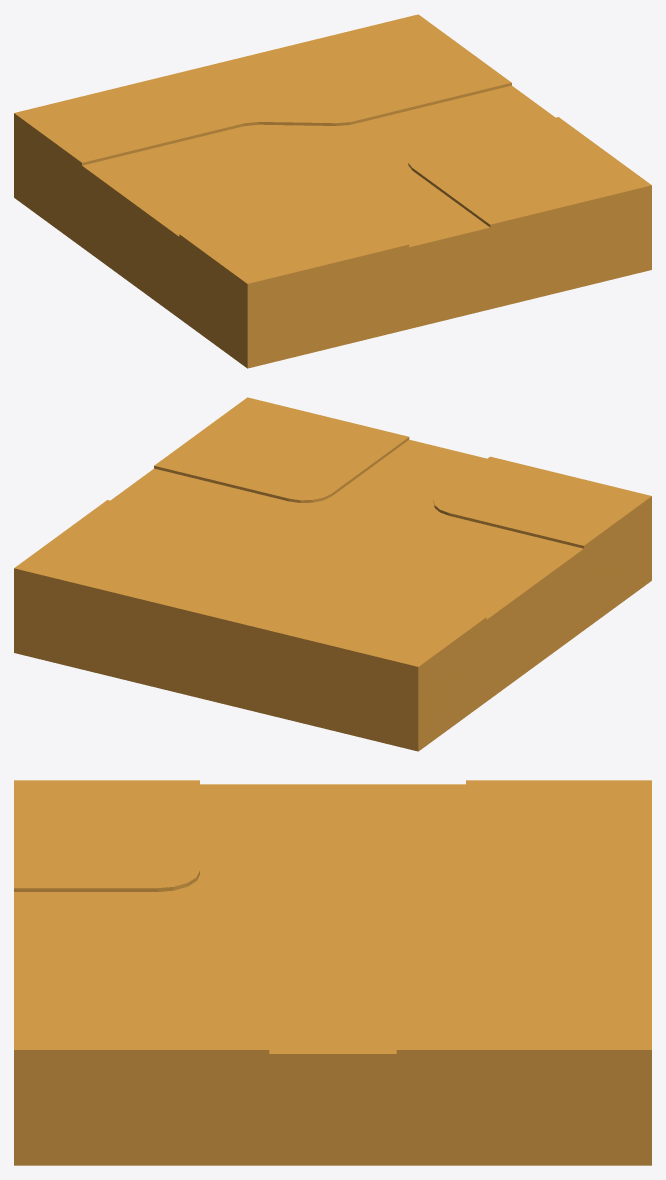
Rendered from tile-road-to-mainroad-intersection-t.glb.
3 renders of one model, top to bottom at view 1: azimuth 30°, elevation 25°; view 2: azimuth 150°, elevation 25°; view 3: azimuth 270°, elevation 25°, orthographic. The views are drawn at different scales.
Visible parts, largest first — view 1: tile-road-to-mainroad-intersection-t; view 2: tile-road-to-mainroad-intersection-t; view 3: tile-road-to-mainroad-intersection-t.
Boxes of the visible parts, box(x1,y1,x2,y2) form: tile-road-to-mainroad-intersection-t: box(14, 14, 651, 368); tile-road-to-mainroad-intersection-t: box(14, 397, 651, 751); tile-road-to-mainroad-intersection-t: box(14, 780, 651, 1165).
Bounding box in the file's own units: 30 × 6 × 30.
